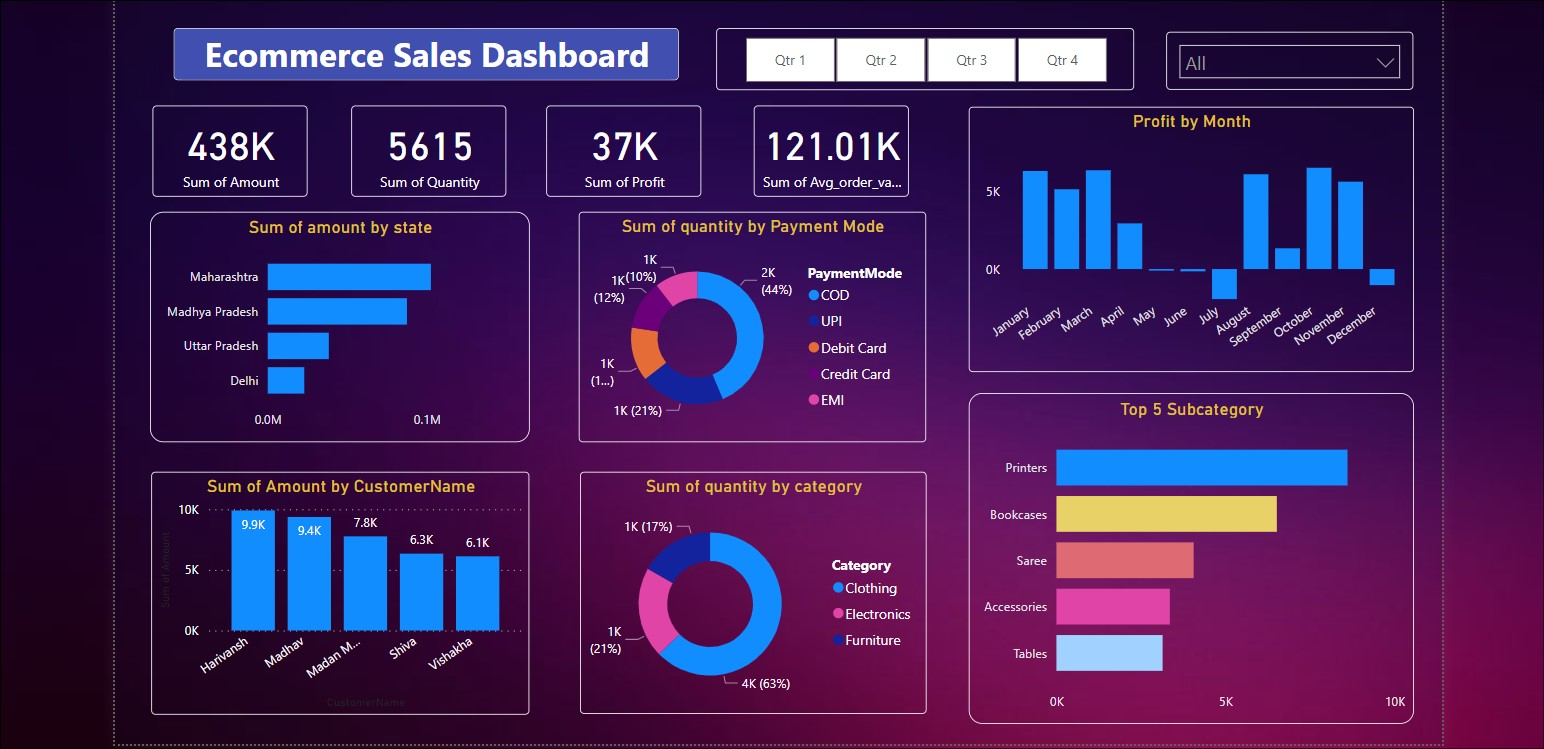

The dashboard page shown, as its layout file describes it:
{"tool":"powerbi","page":{"name":"Page 1","canvas":[1280,720],"ordinal":0},"visuals":[{"type":"textbox","title":"Ecommerce Sales Dashboard","box":[56.3,28.8,487.1,50.8],"z":0},{"type":"columnChart","title":"Profit by Month","fields":{"Y":["Details.Profit"],"Category":["Orders.Order Date.Variation.Date Hierarchy.Month"]},"box":[823.7,104.9,429.3,255.7],"z":1000},{"type":"barChart","title":"Top 5 Subcategory ","fields":{"Category":["Details.Sub-Category"],"Y":["Details.Profit"]},"box":[823.7,381.1,429.3,319.6],"z":2000},{"type":"donutChart","title":"Sum of quantity by category","fields":{"Category":["Details.Category"],"Y":["Details.Quantity"]},"box":[448.6,457.1,334.1,234],"z":3000},{"type":"donutChart","title":"Sum of quantity by Payment Mode","fields":{"Y":["Details.Quantity"],"Category":["Details.PaymentMode"]},"box":[447.3,205.8,334.8,222.3],"z":4000},{"type":"card","fields":{"Values":["Details.Amount"]},"box":[35.7,104.3,149.6,87.8],"z":5000},{"type":"card","fields":{"Values":["Details.Quantity"]},"box":[227.8,104.3,149.6,87.8],"z":6000},{"type":"card","fields":{"Values":["Details.Profit"]},"box":[415.8,104.3,149.6,87.8],"z":7000},{"type":"card","fields":{"Values":["Details.Avg_order_value"]},"box":[616.1,104.3,149.6,87.8],"z":8000},{"type":"barChart","title":"Sum of amount by state ","fields":{"Category":["Orders.State"],"Y":["Details.Amount"]},"box":[34.3,205.8,366.4,222.3],"z":9000},{"type":"columnChart","fields":{"Y":["Details.Amount"],"Category":["Orders.CustomerName"]},"box":[35,457,365,234],"z":10000},{"type":"slicer","fields":{"Values":["Orders.Order Date.Variation.Date Hierarchy.Quarter"]},"box":[580.4,28.8,403.4,60.4],"z":11000},{"type":"slicer","fields":{"Values":["Orders.State"]},"box":[1014.1,32.9,238.8,56.3],"z":12000}]}

Visuals, with their boxes in screenshot pixels (x1, y1, x2, y2):
"Ecommerce Sales Dashboard" textbox: box(178, 30, 677, 82)
"Profit by Month" columnChart: box(964, 107, 1404, 369)
"Top 5 Subcategory " barChart: box(964, 390, 1404, 718)
"Sum of quantity by category" donutChart: box(580, 468, 922, 708)
"Sum of quantity by Payment Mode" donutChart: box(579, 211, 922, 439)
card - Details.Amount: box(157, 107, 310, 197)
card - Details.Quantity: box(354, 107, 507, 197)
card - Details.Profit: box(547, 107, 700, 197)
card - Details.Avg_order_value: box(752, 107, 905, 197)
"Sum of amount by state " barChart: box(156, 211, 531, 439)
columnChart - Details.Amount x Orders.CustomerName: box(156, 468, 530, 708)
slicer - Orders.Order Date.Variation.Date Hierarchy.Quarter: box(715, 30, 1128, 91)
slicer - Orders.State: box(1159, 34, 1404, 91)
